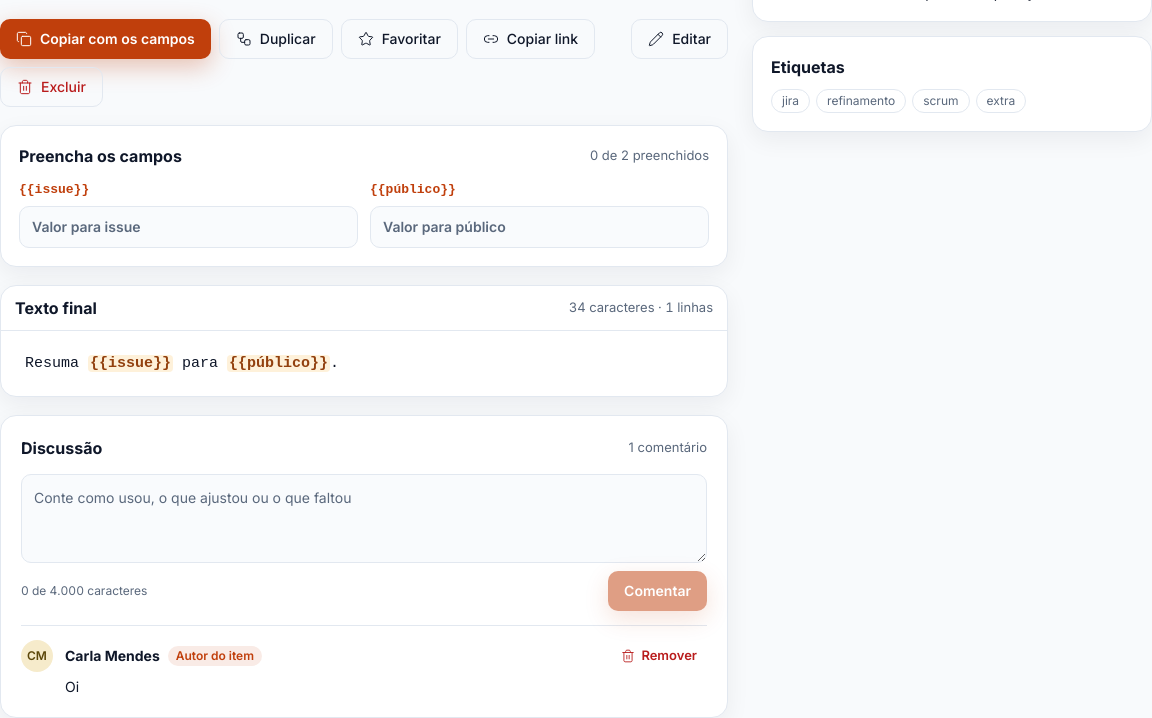
Scenario: ItemDetail › dona do item ou administradora removem o comentário de outra pessoa e o diálogo avisa
(page scrolled)
What coordinates should you click on to do the following:
click the button with aria-label "Remover comentário de Carla Mendes"
I would click on:
 (659, 656)
Its box is [611,640,707,672].
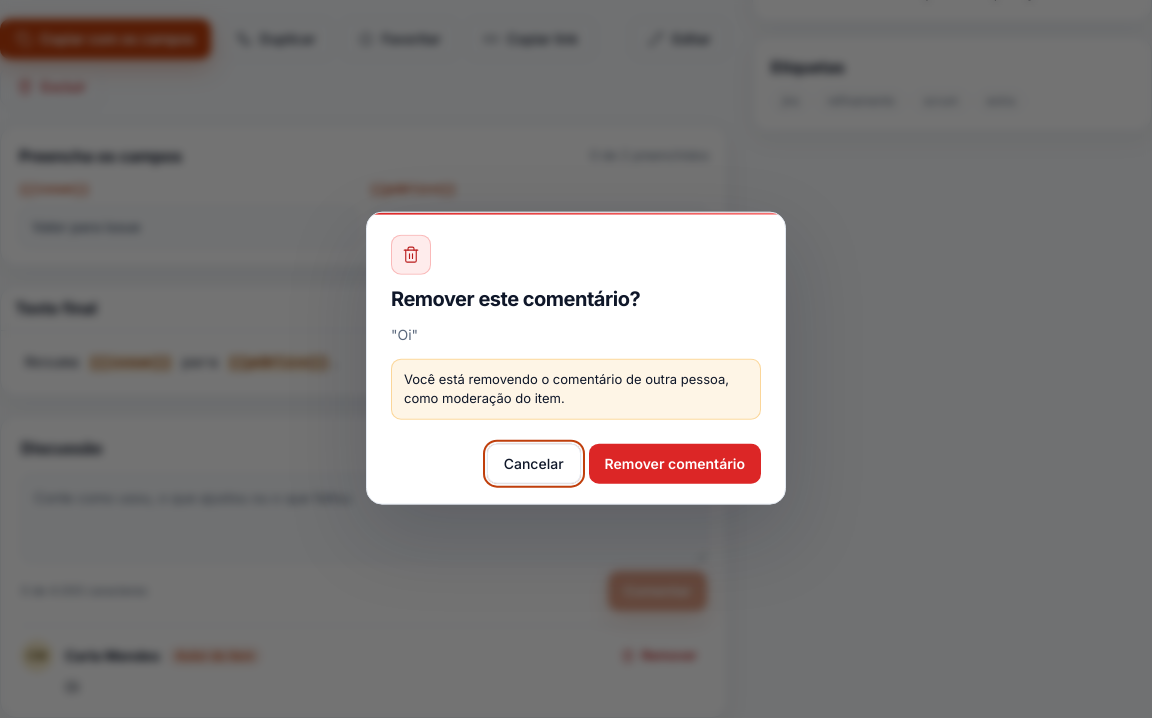
Expected: the text "comentário de outra pessoa" is shown, [404,370,729,406]
